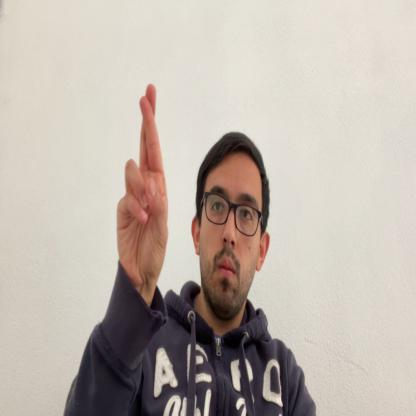R: (116, 82, 168, 288)
